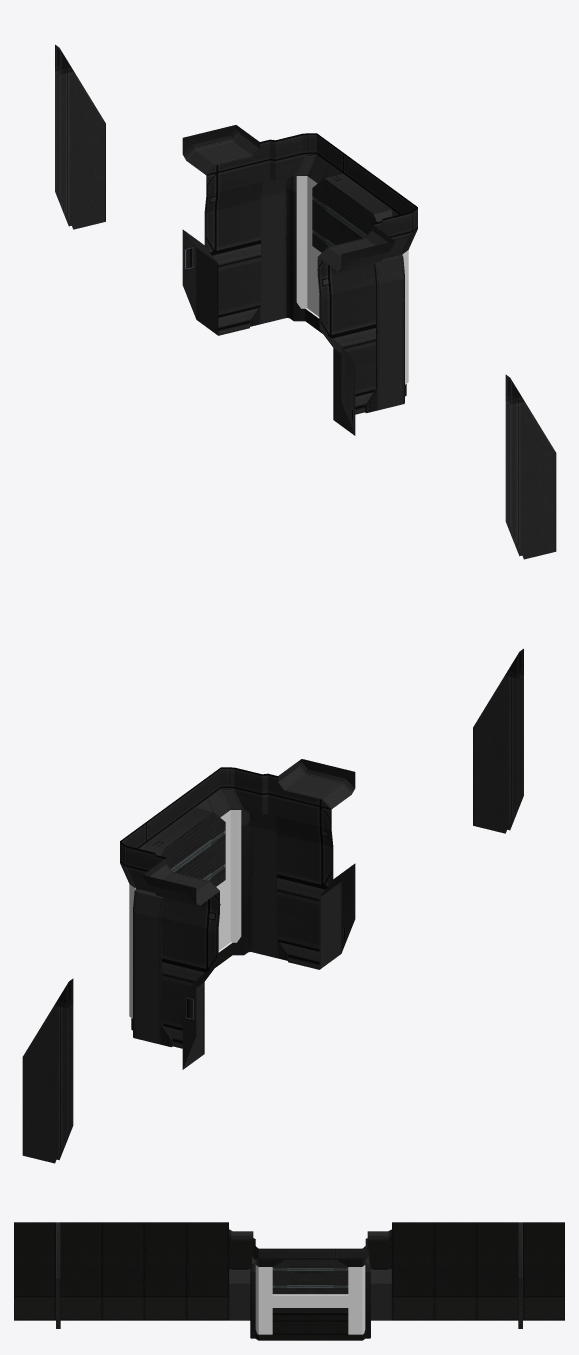
File: security-wall.obj
The picture shows the model from 3 angles, top to bottom: view 1: azimuth 30°, elevation 25°; view 2: azimuth 150°, elevation 25°; view 3: azimuth 270°, elevation 25°; orthographic projection. The views are drawn at different scales.
Parts seen in each view (by area): view 1: Mesh1 NM_security_zone_wall__medium1 Model; view 2: Mesh1 NM_security_zone_wall__medium1 Model; view 3: Mesh1 NM_security_zone_wall__medium1 Model.
Boxes of the visible parts, x1,y1,x2,y2 form: Mesh1 NM_security_zone_wall__medium1 Model: (55,44,556,559); Mesh1 NM_security_zone_wall__medium1 Model: (22,648,523,1163); Mesh1 NM_security_zone_wall__medium1 Model: (14,1222,564,1340).
Size of the model in its own units: 4.73 by 7.95 by 41.75.
